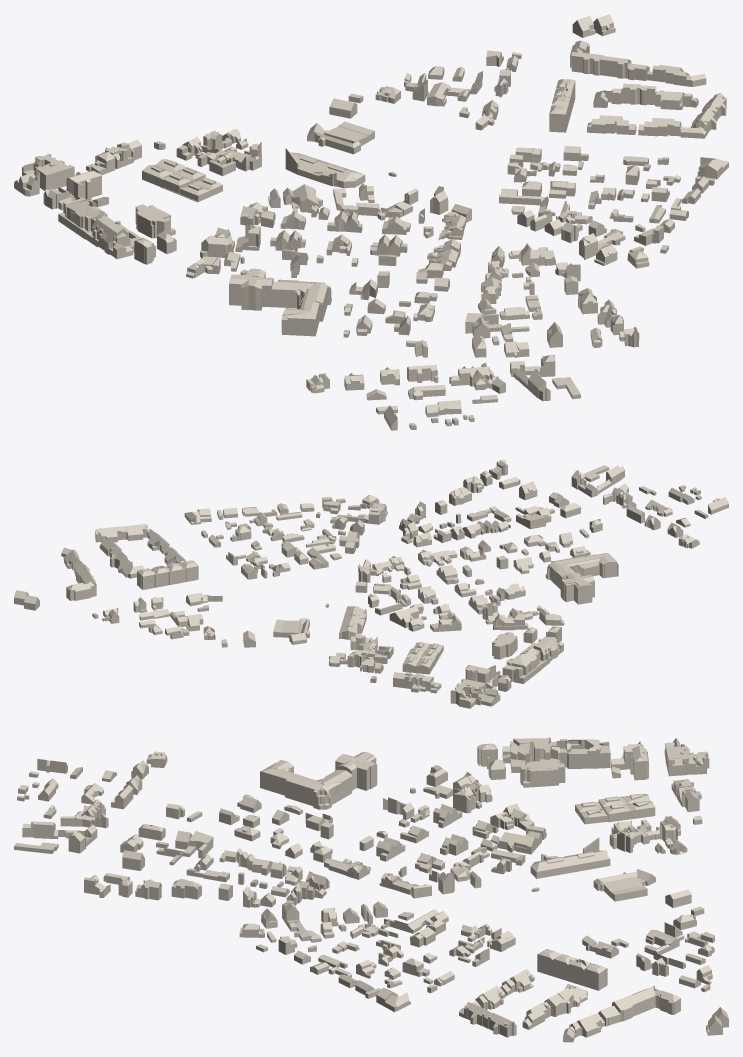
3 renders of one model, top to bottom at view 1: azimuth 30°, elevation 25°; view 2: azimuth 150°, elevation 25°; view 3: azimuth 270°, elevation 25°, orthographic. The views are drawn at different scales.
Bounding box in the file's own units: 442 × 18.02 × 463.
